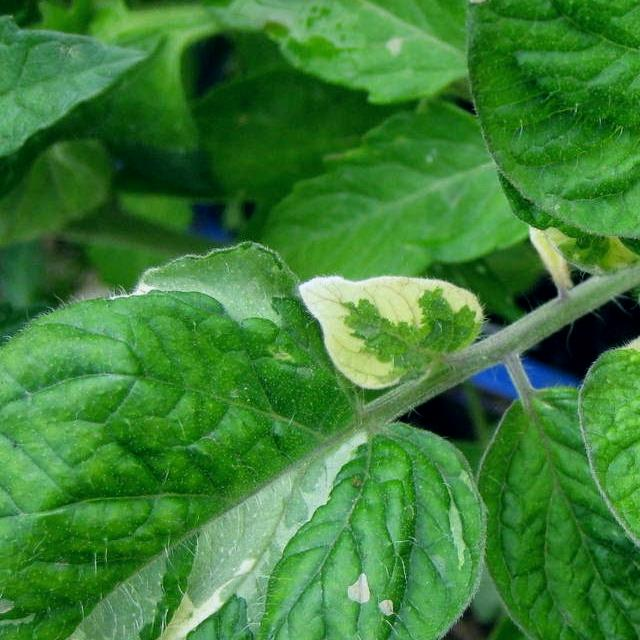Tomato leaf: (448, 0, 640, 250), (0, 0, 154, 199)
